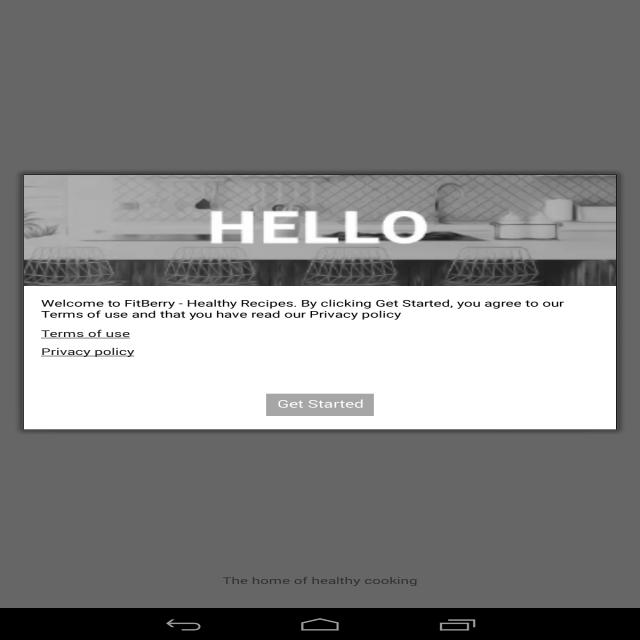Button: (259, 391, 379, 418)
TextView: (37, 296, 572, 322), (204, 208, 434, 247), (220, 571, 428, 589), (37, 344, 139, 358)
